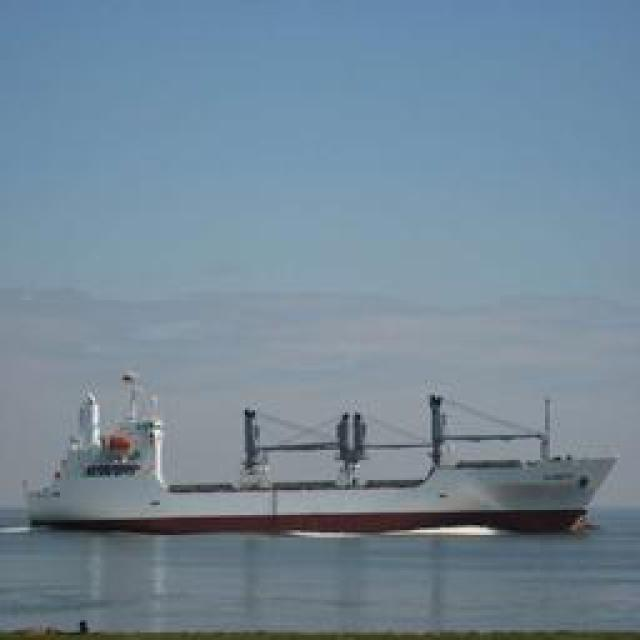Ship: (25, 375, 625, 540)
